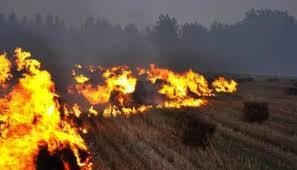fire: (0, 45, 95, 164), (71, 59, 221, 116)
